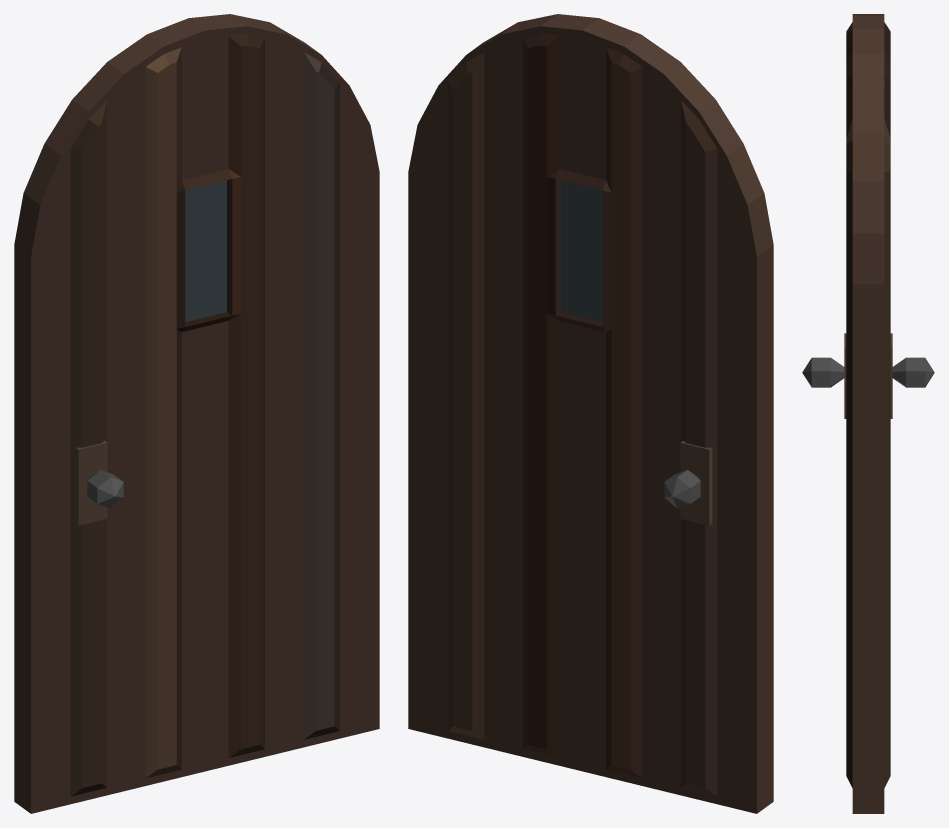
File: Prop_DoorArchB.fbx
The picture shows the model from 3 angles, left to right: view 1: azimuth 30°, elevation 25°; view 2: azimuth 150°, elevation 25°; view 3: azimuth 270°, elevation 25°; orthographic projection. The views are drawn at different scales.
Parts seen in each view (by area): view 1: Prop_DoorArchB; view 2: Prop_DoorArchB; view 3: Prop_DoorArchB.
Boxes of the visible parts, x1=… form: Prop_DoorArchB: x1=14, y1=14, x2=379, y2=813; Prop_DoorArchB: x1=408, y1=14, x2=773, y2=813; Prop_DoorArchB: x1=802, y1=14, x2=934, y2=813.
Bounding box in the file's own units: 120 × 244 × 41.62.
